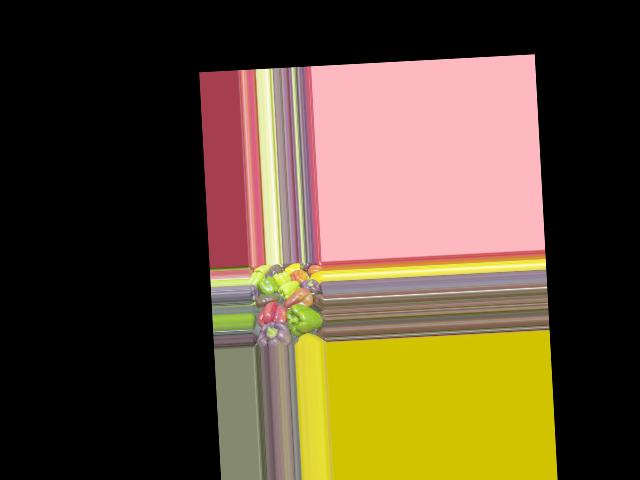bell_pepper: (300, 275, 321, 294)
